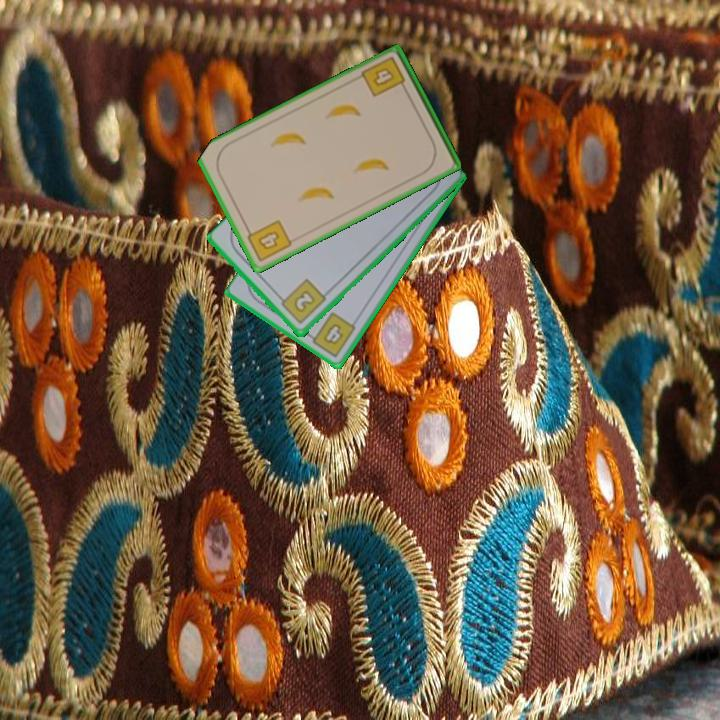2b: (275, 276, 329, 327)
4b: (304, 308, 359, 360), (242, 217, 295, 265), (358, 53, 410, 100)
